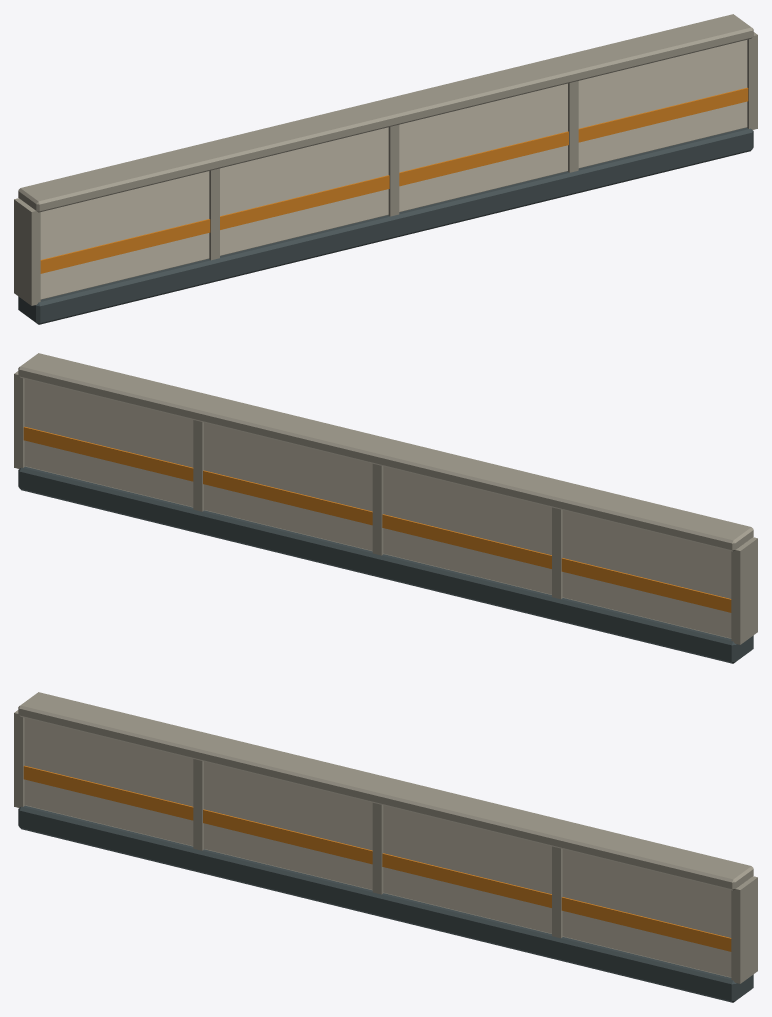
The model's file is fh_wall_4.glb.
The picture shows the model from 3 angles, top to bottom: view 1: azimuth 30°, elevation 25°; view 2: azimuth 150°, elevation 25°; view 3: azimuth 330°, elevation 25°; orthographic projection.
Parts seen in each view (by area): view 1: fh_wall_4; view 2: fh_wall_4; view 3: fh_wall_4.
Boxes of the visible parts, left/top/right/bottom form: fh_wall_4: left=14, top=14, right=757, bottom=324; fh_wall_4: left=14, top=353, right=757, bottom=663; fh_wall_4: left=14, top=692, right=757, bottom=1002.
Size of the model in its own units: 4.05 by 0.66 by 0.2.
